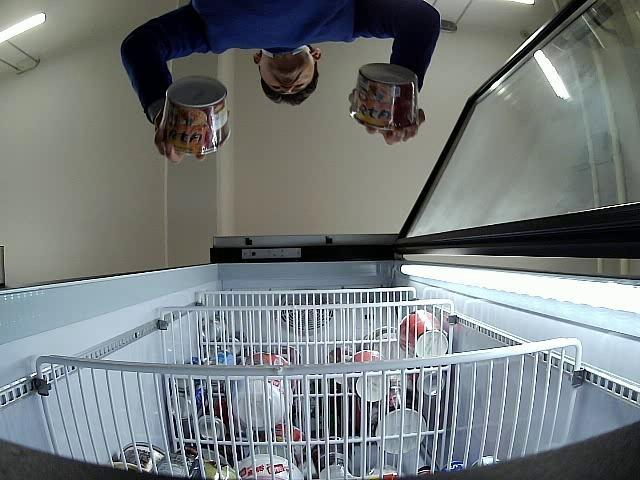05_nuguri_L: (160, 76, 230, 155), (349, 63, 418, 130)
